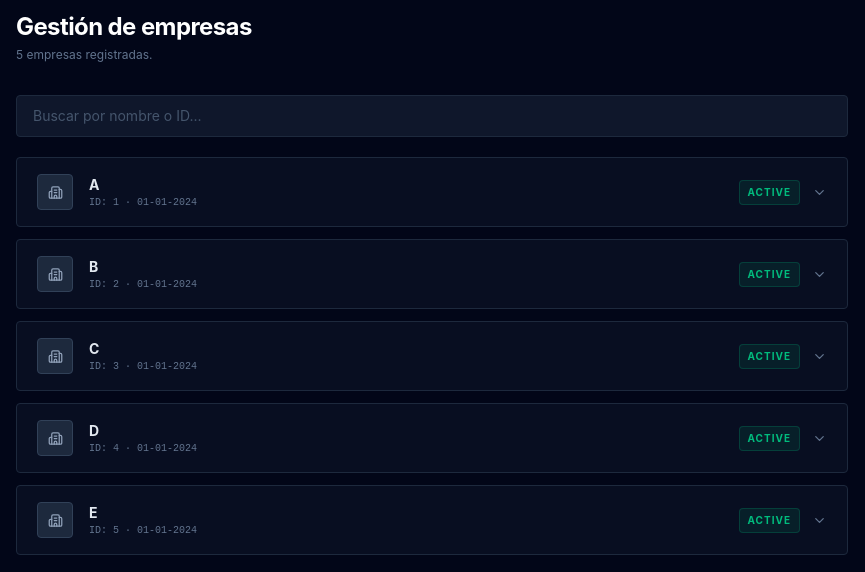
Test: CompaniesAdmin › sin resultados de búsqueda muestra mensaje específico
The width and height of the screenshot is (865, 572).
Expected: the text "A" is shown, [89, 176, 100, 192]
Type "zzznoencontrado" into the field with placeholder "Buscar por nombre o ID...". click: (432, 116)
box: [16, 95, 848, 137]
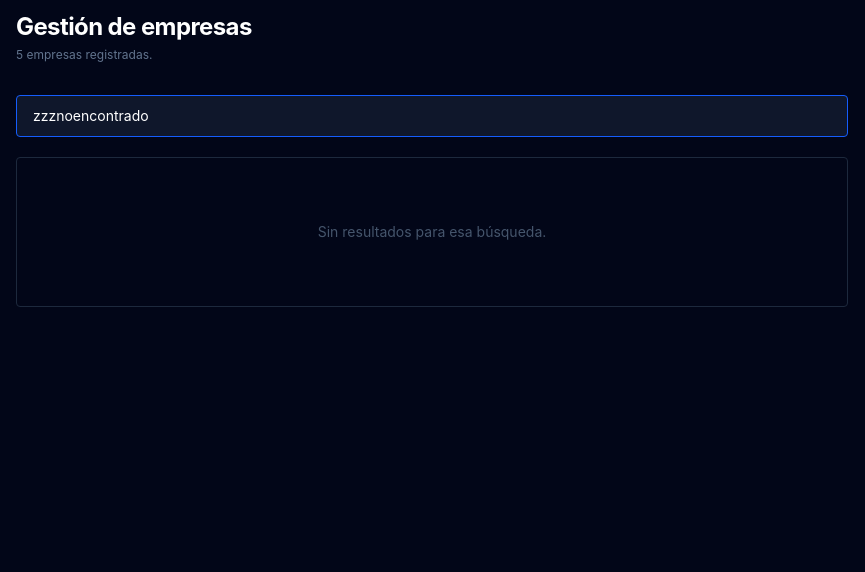
Expected: the text "Sin resultados para esa búsqueda." is shown, [16, 157, 848, 307]
